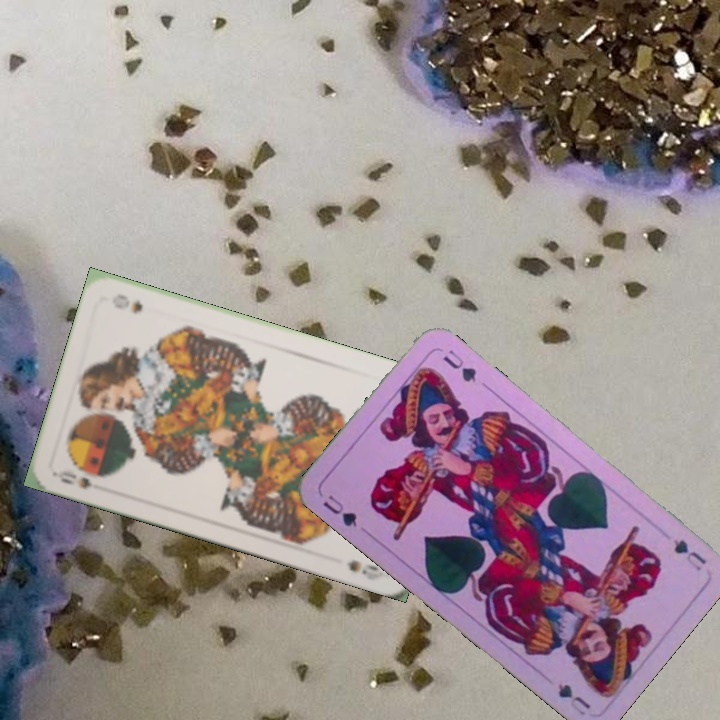GU: (318, 490, 360, 530), (669, 534, 709, 574)
SO: (52, 467, 95, 492)
